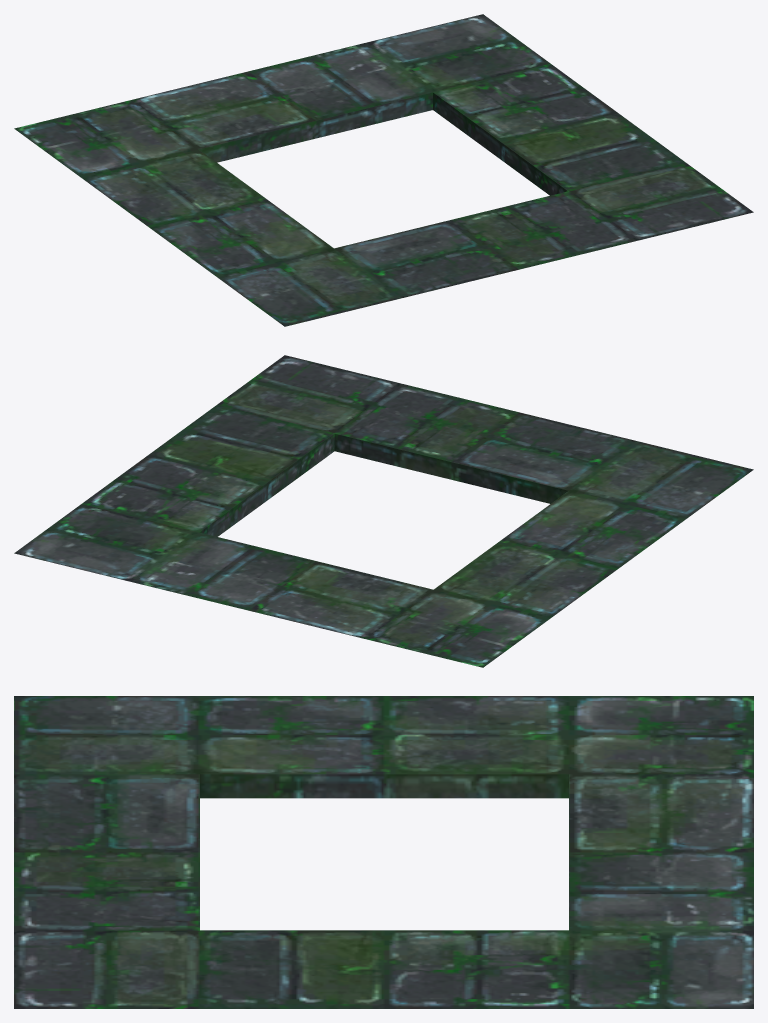
File: stemple_floor_trigger_01.fbx
3 views of the same model, one above another, from view 1: azimuth 30°, elevation 25°; view 2: azimuth 150°, elevation 25°; view 3: azimuth 270°, elevation 25° (orthographic). The views are drawn at different scales.
Parts seen in each view (by area): view 1: sunken_tileset/sunken_floor01_mat_shadow; view 2: sunken_tileset/sunken_floor01_mat_shadow; view 3: sunken_tileset/sunken_floor01_mat_shadow.
Boxes of the visible parts, <box> form: sunken_tileset/sunken_floor01_mat_shadow: <box>14,14,753,326</box>; sunken_tileset/sunken_floor01_mat_shadow: <box>14,355,753,667</box>; sunken_tileset/sunken_floor01_mat_shadow: <box>14,696,753,1008</box>.
Bounding box in the file's own units: 4 × 0.1433 × 4.
